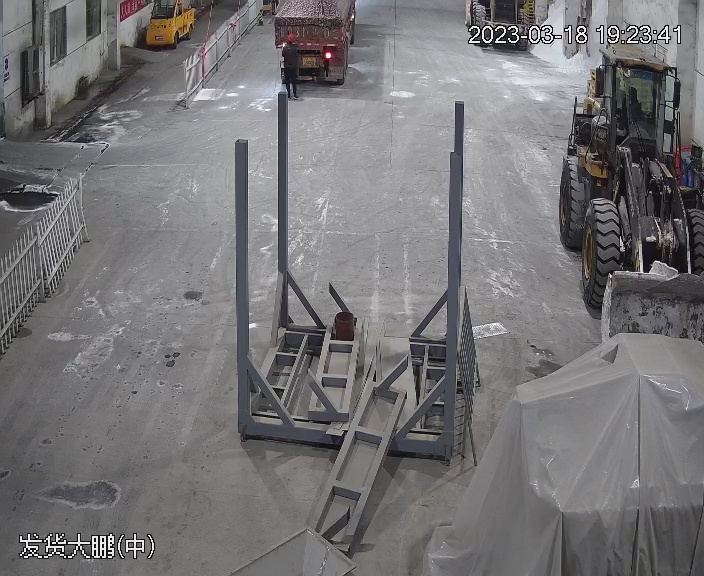head: (281, 31, 301, 54)
helmet: (286, 32, 297, 41)
people: (279, 31, 303, 101)
truck: (271, 1, 361, 89)
